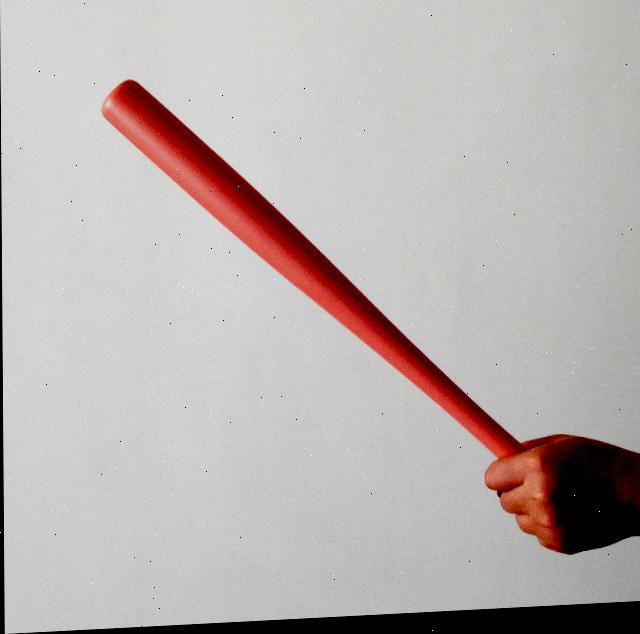baseball bat: (80, 22, 487, 471)
